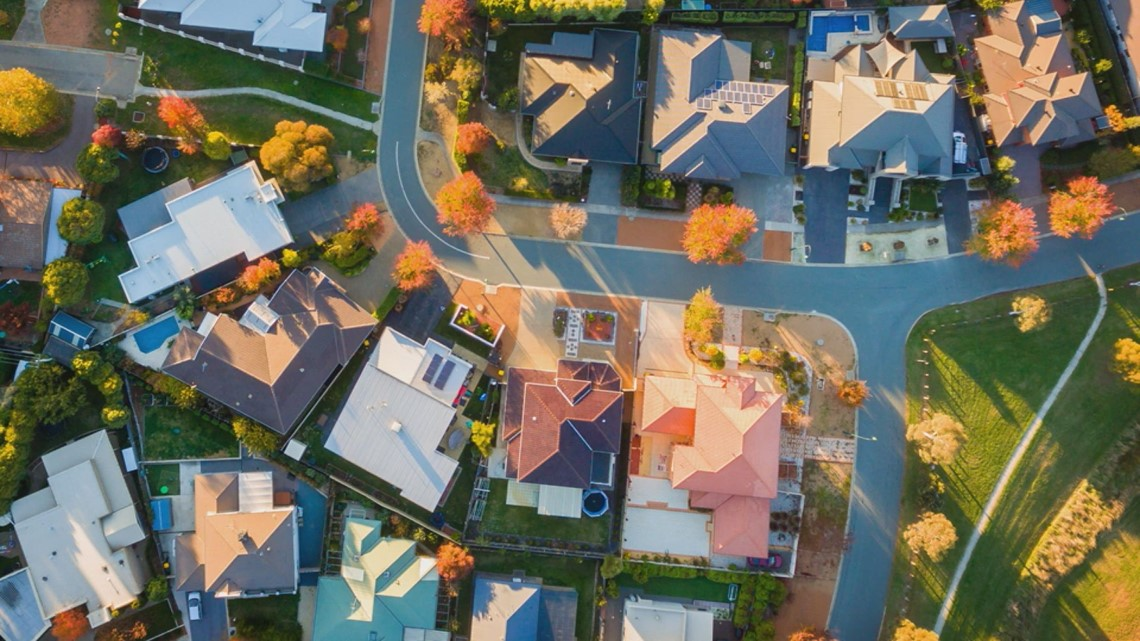build: (158, 260, 382, 439), (1, 428, 159, 632), (325, 307, 478, 512), (806, 6, 968, 193), (111, 159, 296, 309), (649, 28, 791, 199), (969, 1, 1122, 147), (498, 354, 628, 522), (645, 354, 790, 503), (508, 23, 651, 171), (197, 465, 314, 598), (323, 516, 442, 641), (1, 162, 82, 274), (464, 569, 583, 641), (604, 581, 725, 641), (46, 311, 97, 351)
